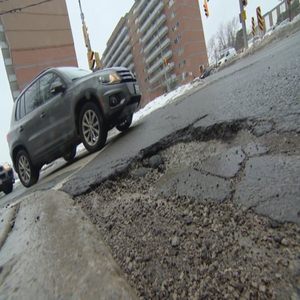pothole: (71, 113, 300, 298)
